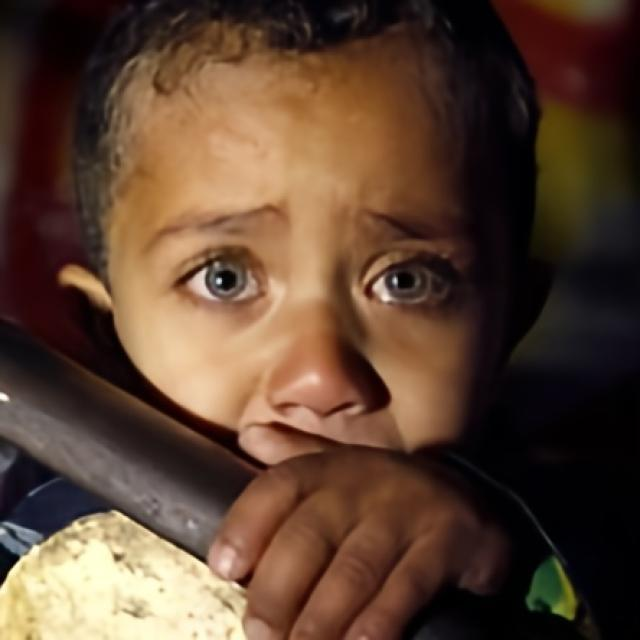fear: (109, 16, 496, 544)
